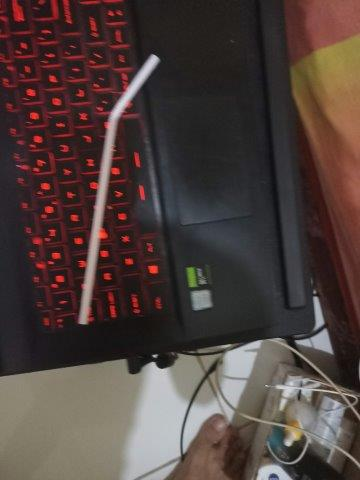sedotan: (78, 54, 160, 324)
